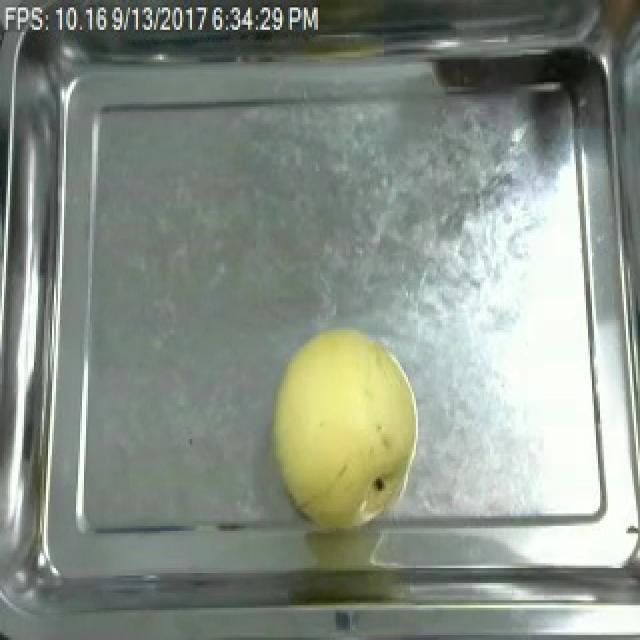Fruit: (262, 317, 426, 534)
